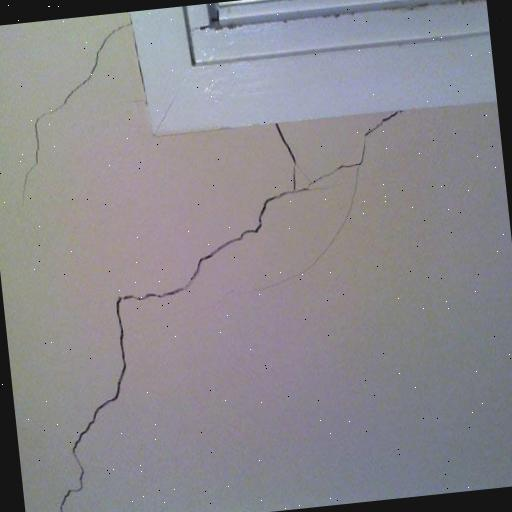spalling: (56, 106, 408, 512)
